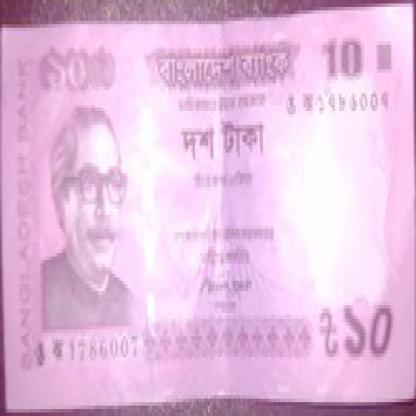Ten Taka: (336, 284, 403, 364), (313, 28, 371, 90), (38, 45, 95, 97)
